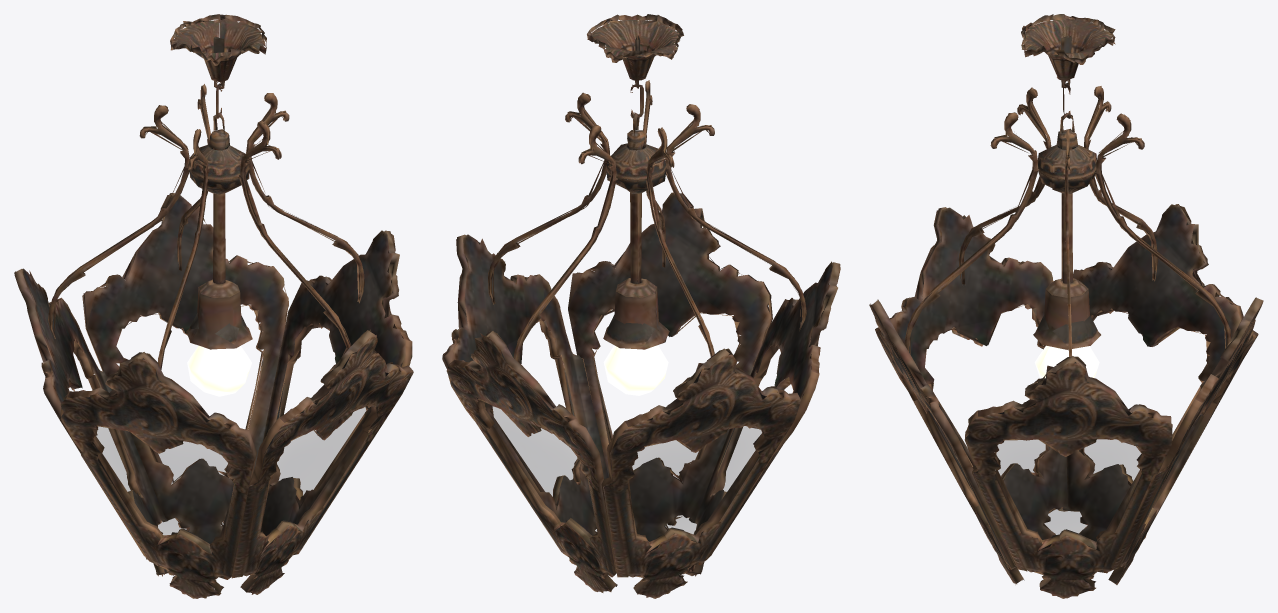
The model's file is lantern_chandelier_01.glb.
3 views of the same model, side by side, from view 1: azimuth 30°, elevation 25°; view 2: azimuth 150°, elevation 25°; view 3: azimuth 270°, elevation 25° (orthographic).
Visible parts, largest first — view 1: lantern_chandelier_01; view 2: lantern_chandelier_01; view 3: lantern_chandelier_01.
Part boxes in pixels (bbox=[...]): lantern_chandelier_01: bbox=[14, 14, 413, 598]; lantern_chandelier_01: bbox=[442, 14, 840, 598]; lantern_chandelier_01: bbox=[869, 14, 1263, 598].
Bounding box in the file's own units: 0.5799 × 0.8787 × 0.5746.
Materials: 3 (2 with a texture image).
